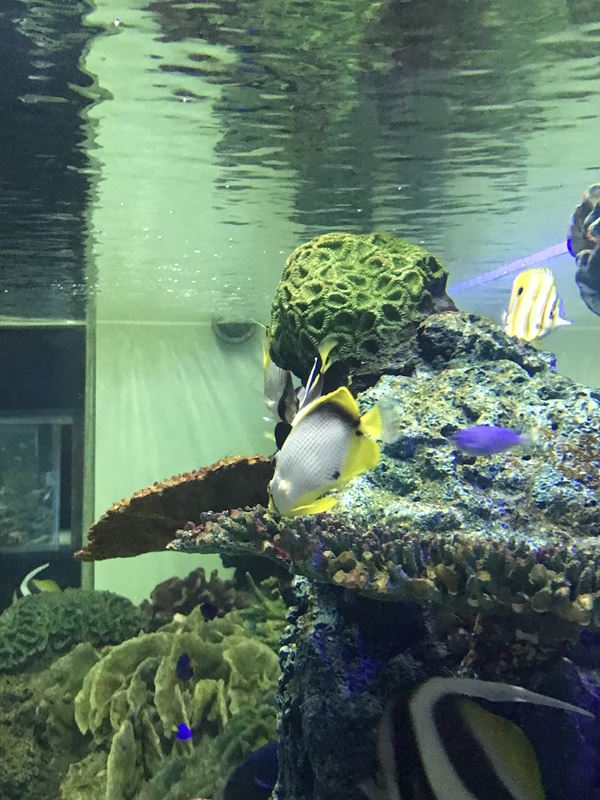Black-backed butterflyfish: (256, 380, 412, 529)
